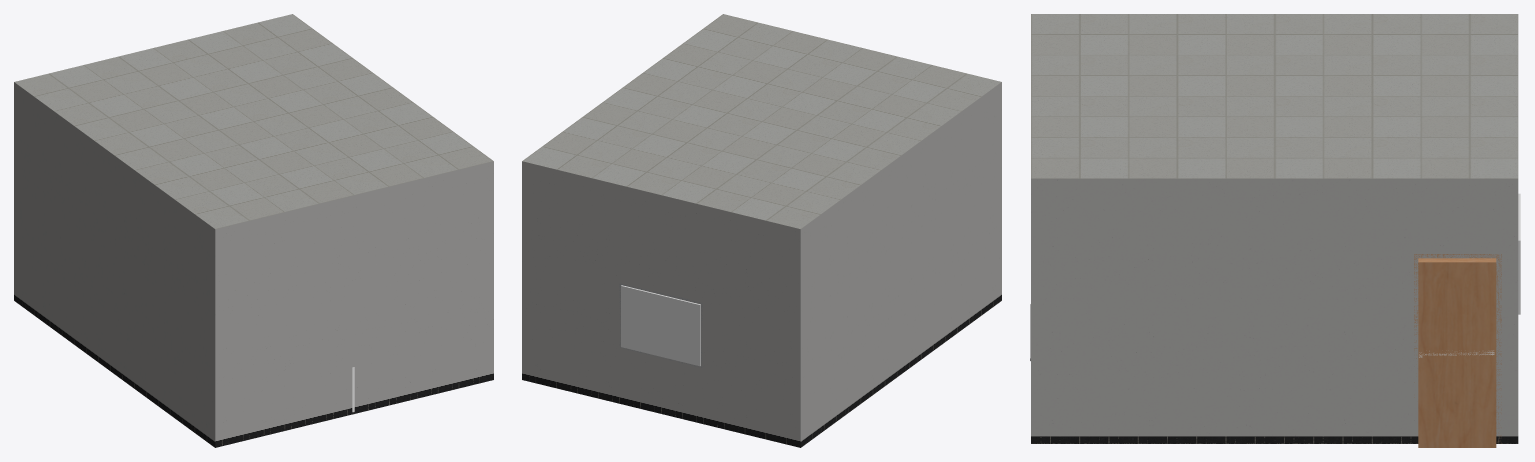
File: Locker Room.fbx
3 renders of one model, left to right at view 1: azimuth 30°, elevation 25°; view 2: azimuth 150°, elevation 25°; view 3: azimuth 270°, elevation 25°, orthographic. The views are drawn at different scales.
Parts seen in each view (by area): view 1: Wall Low, Roof Low; view 2: Wall Low, Roof Low, White Board Bool; view 3: Wall Low, Roof Low, Door Low, Door Frame Low.
Boxes of the visible parts, <box> form: Wall Low: <box>14,82,493,447</box>; Roof Low: <box>14,14,493,229</box>; Wall Low: <box>522,82,1001,447</box>; Roof Low: <box>522,14,1001,229</box>; White Board Bool: <box>621,285,700,366</box>; Wall Low: <box>1031,178,1518,443</box>; Roof Low: <box>1031,14,1518,178</box>; Door Low: <box>1418,262,1496,447</box>; Door Frame Low: <box>1414,254,1501,443</box>.
Size of the model in its own units: 410 by 300 by 503.
Materials: 17 (14 with a texture image).
